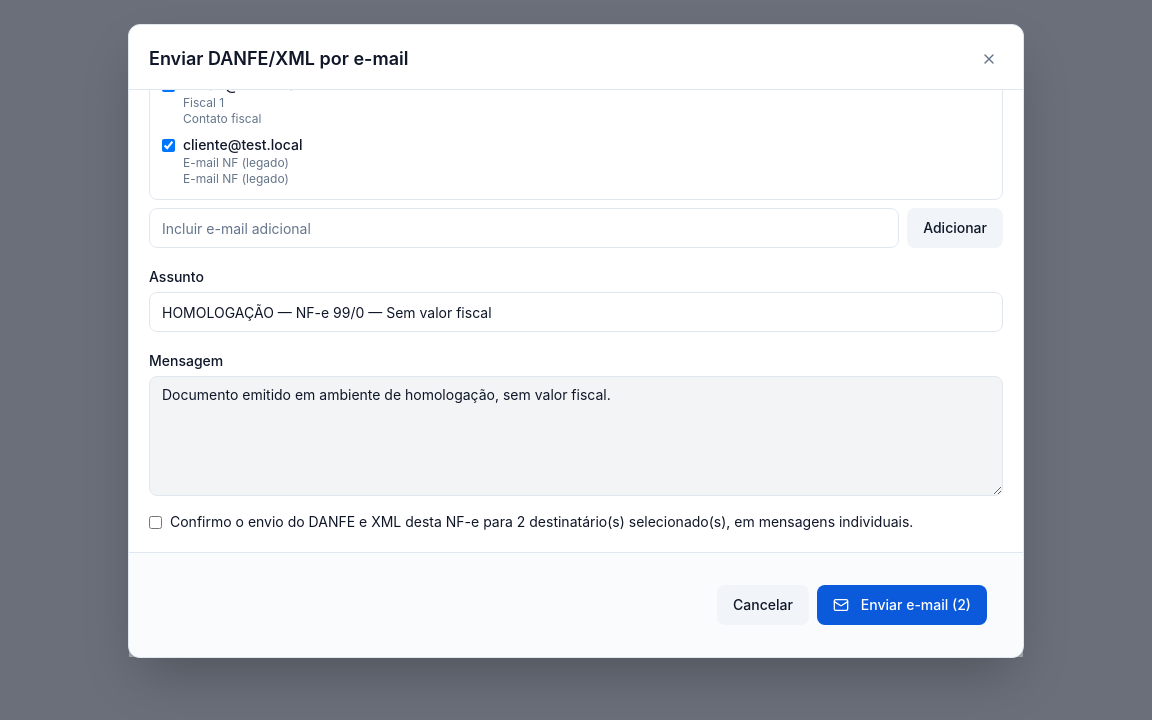
Test case: NFeEnvioDanfeXmlModal multi-destinatários › envia lista destinatarios selecionados e mostra resultado consolidado
(page scrolled)
Click the checkbox labelled "Confirmo o envio" at (156, 522), box x1=149 y1=516 x2=162 y2=529
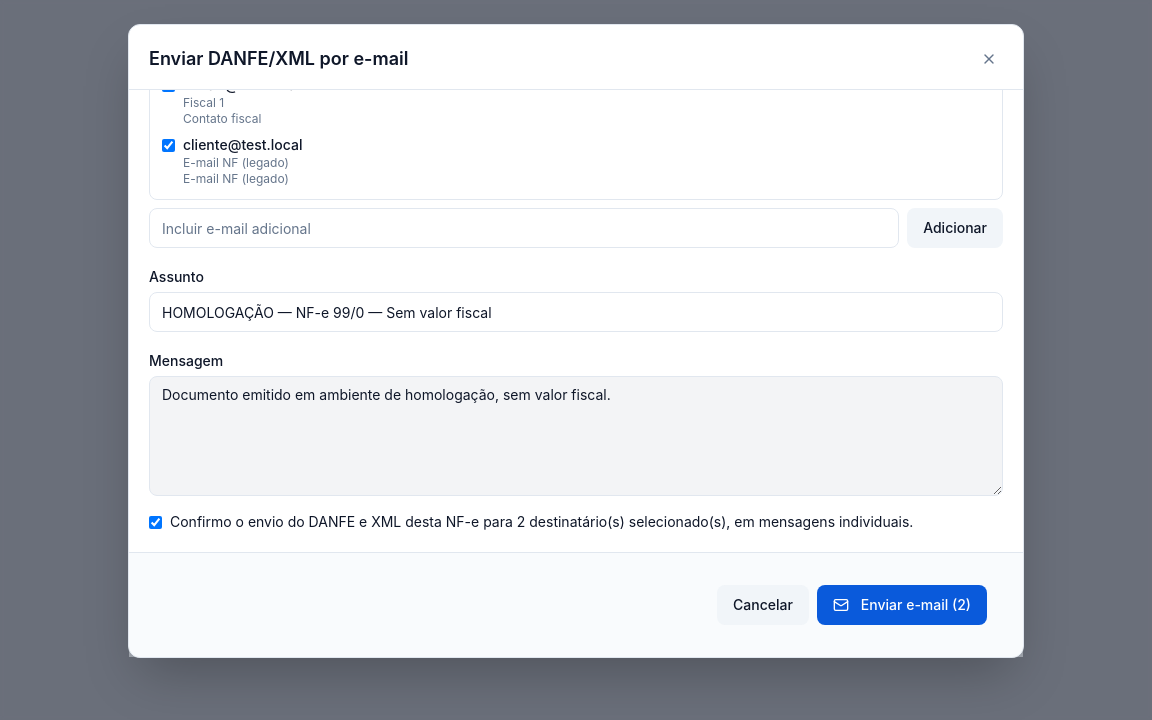
Click the button "Enviar e-mail (2)" at (902, 605), box x1=817 y1=585 x2=987 y2=625
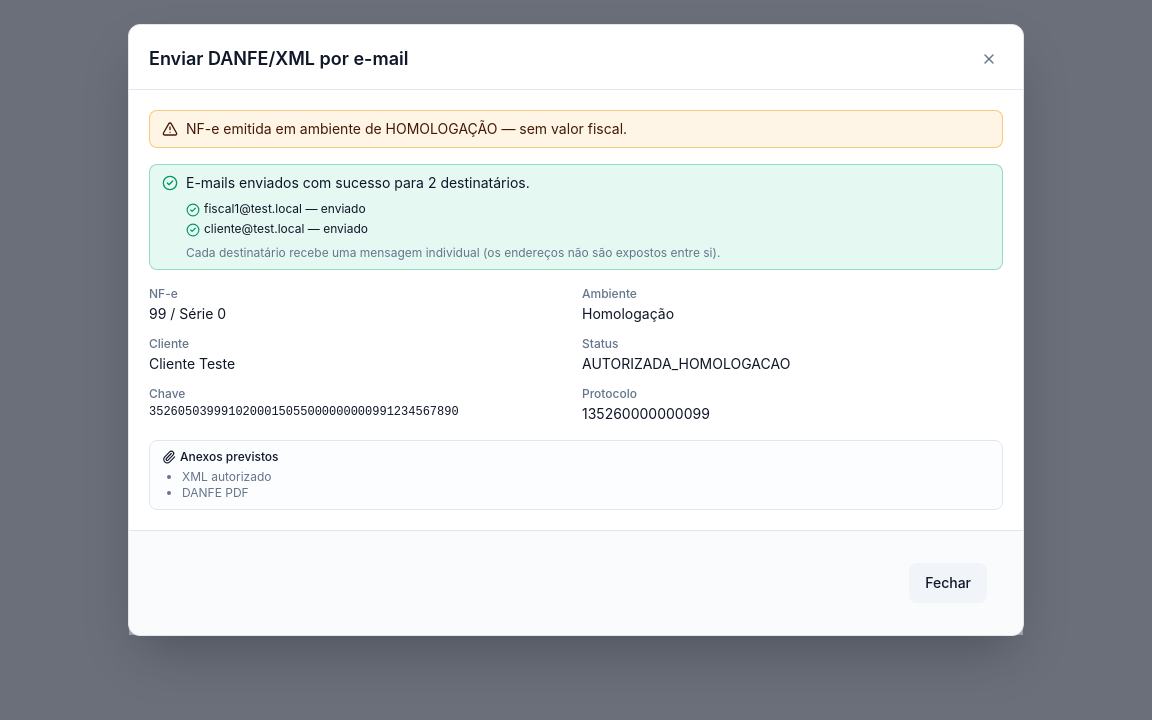
Now the text "E-mails enviados com sucesso para 2 destinatários." is shown, box x1=186 y1=173 x2=530 y2=193
Now the text "não são expostos entre si" is shown, box x1=186 y1=245 x2=720 y2=260
